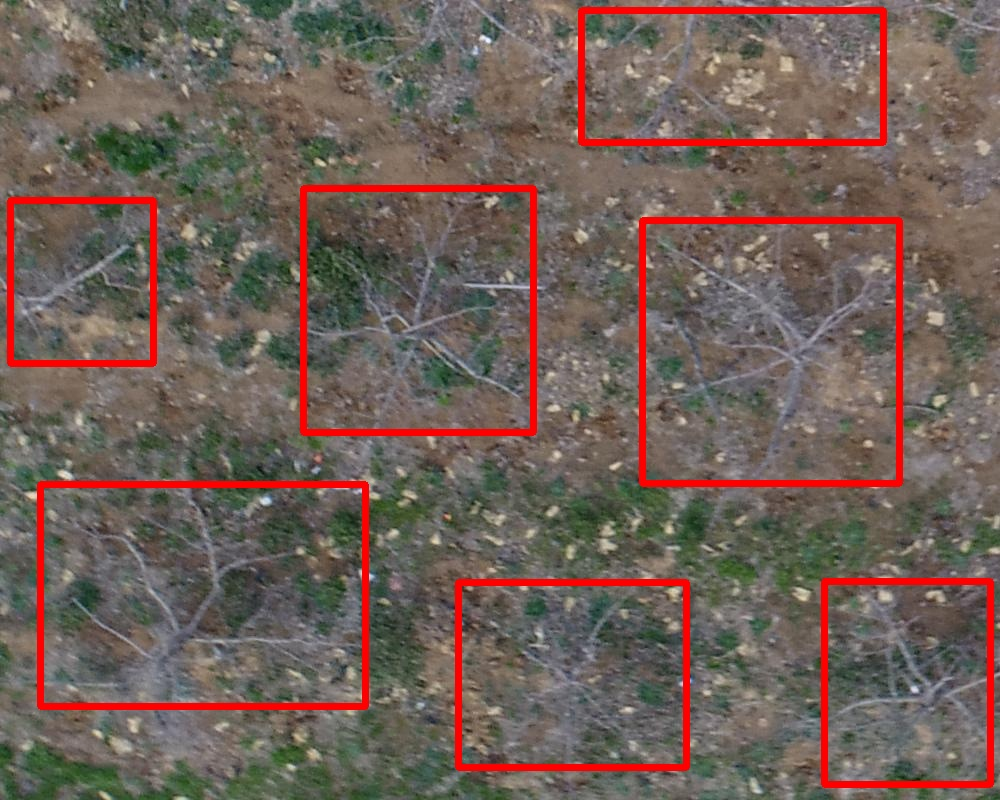apple: (40, 484, 365, 706), (642, 220, 899, 483), (303, 188, 533, 432), (458, 582, 686, 767), (581, 10, 883, 142), (824, 581, 990, 784), (10, 200, 153, 363)
